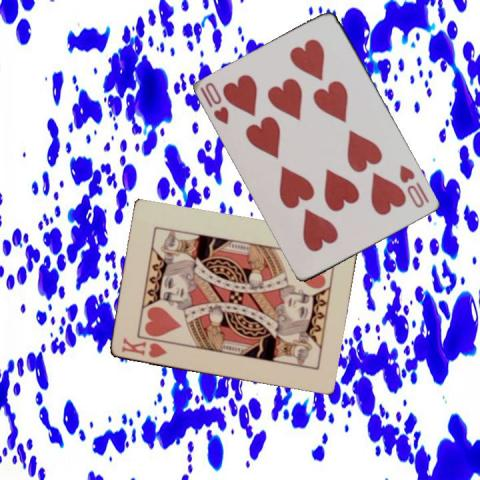10h: (397, 162, 431, 209), (197, 79, 231, 126)
Kh: (118, 335, 168, 359)
